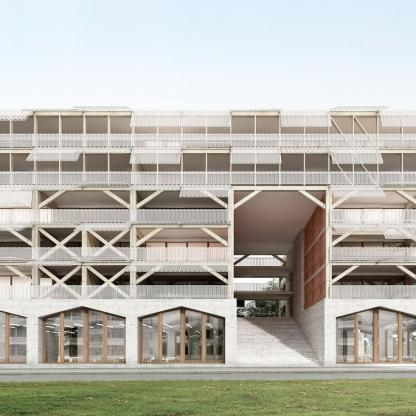Balcony: (0, 133, 416, 148), (0, 171, 415, 185), (0, 246, 231, 261), (0, 209, 230, 224), (0, 285, 231, 299), (329, 209, 415, 224), (329, 285, 415, 299), (329, 247, 415, 261)
Building Outline: (0, 98, 416, 369)
Door: (234, 190, 326, 367)
Facade: (0, 99, 415, 369)
Floor Slab: (0, 148, 416, 153), (0, 186, 416, 190), (0, 298, 237, 303), (0, 261, 234, 266), (0, 224, 234, 228), (326, 261, 416, 266), (324, 298, 416, 302), (327, 224, 416, 228)
Glass Wall: (42, 307, 128, 363), (139, 307, 225, 363), (336, 307, 416, 364), (144, 276, 228, 299), (330, 276, 405, 299), (146, 242, 228, 262), (144, 208, 225, 228), (56, 208, 137, 228), (330, 242, 405, 262), (330, 209, 405, 229), (0, 311, 27, 363), (0, 275, 52, 298), (0, 208, 46, 228), (0, 242, 42, 262), (99, 276, 133, 299), (56, 276, 88, 299), (99, 242, 134, 262), (55, 242, 87, 262)
Pillar: (326, 190, 332, 298), (130, 190, 136, 298), (32, 190, 38, 298), (228, 190, 234, 298)
Roof: (0, 98, 416, 127), (329, 146, 384, 164), (129, 146, 181, 164), (28, 261, 80, 279), (130, 262, 182, 280), (180, 262, 232, 280), (230, 146, 281, 164), (26, 146, 83, 161), (178, 184, 234, 198), (0, 185, 33, 208), (330, 184, 386, 197), (72, 221, 134, 231), (379, 223, 416, 239), (330, 222, 392, 231), (178, 140, 231, 148), (75, 146, 133, 153), (280, 146, 336, 153), (125, 184, 181, 191), (21, 184, 85, 190), (0, 221, 33, 231), (72, 181, 131, 185)
Window: (0, 152, 415, 185), (0, 116, 416, 148), (38, 265, 130, 299), (136, 190, 228, 224), (38, 190, 130, 224), (135, 265, 227, 299), (135, 228, 227, 261), (38, 228, 130, 261), (332, 190, 416, 224), (332, 265, 415, 299), (332, 235, 415, 261), (0, 266, 32, 299), (0, 228, 32, 261)
